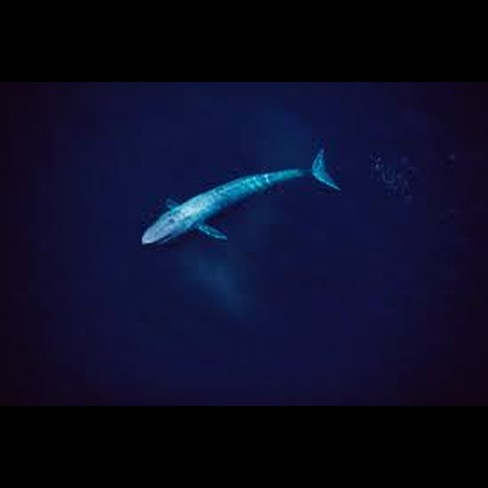bluewhale: (136, 145, 343, 253)
